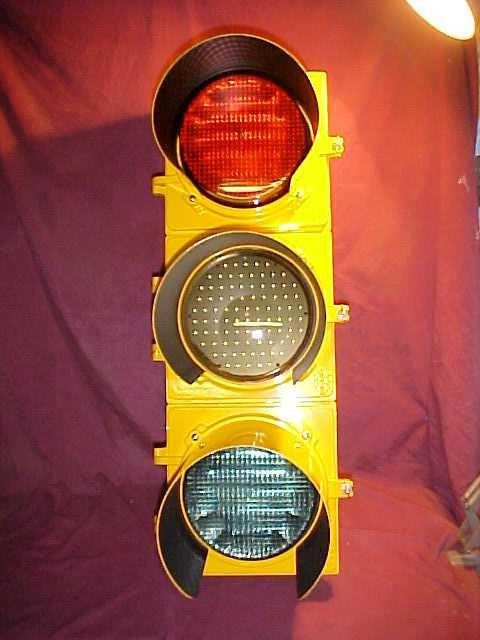green: (153, 223, 332, 400)
red: (167, 30, 323, 216)
